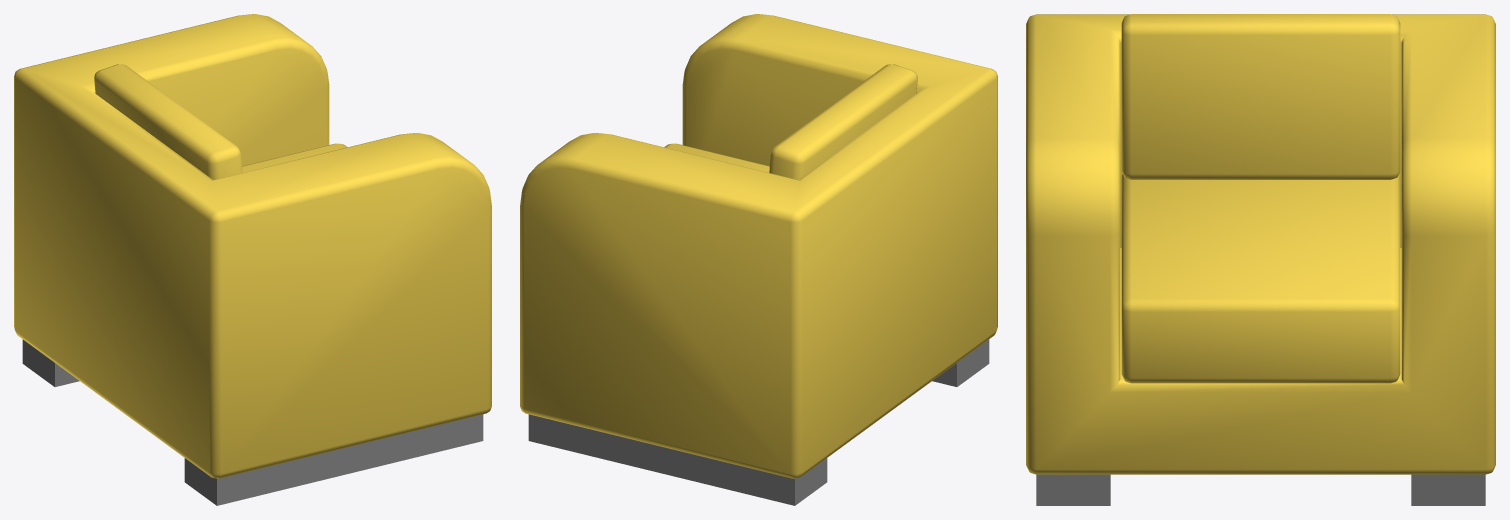
Rendered from Sofa_01_Single.glb.
The picture shows the model from 3 angles, left to right: view 1: azimuth 30°, elevation 25°; view 2: azimuth 150°, elevation 25°; view 3: azimuth 270°, elevation 25°; orthographic projection. The views are drawn at different scales.
Parts seen in each view (by area): view 1: Sofa_Single; view 2: Sofa_Single; view 3: Sofa_Single.
Boxes of the visible parts, x1,y1,x2,y2 form: Sofa_Single: [14, 14, 491, 505]; Sofa_Single: [520, 14, 997, 505]; Sofa_Single: [1026, 14, 1495, 505].
Size of the model in its own units: 0.824 by 0.8572 by 1.
1 material, 1 textured.
